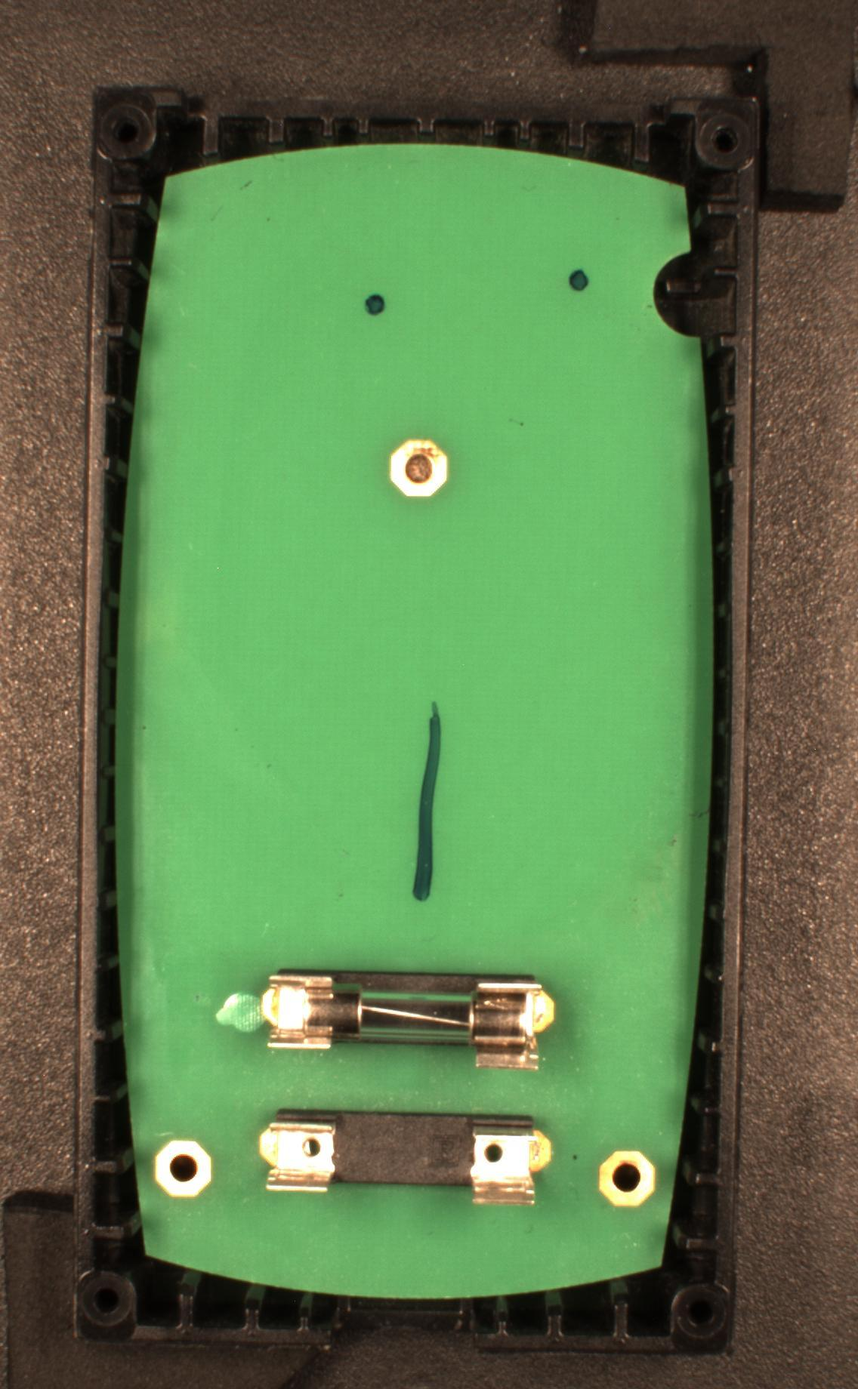Linijsko Ostecene: (411, 700, 444, 903)
Nepostojanje osiguraca: (256, 1106, 554, 1208)
Tockasto Ostecenje: (568, 266, 592, 294), (362, 292, 389, 316)
